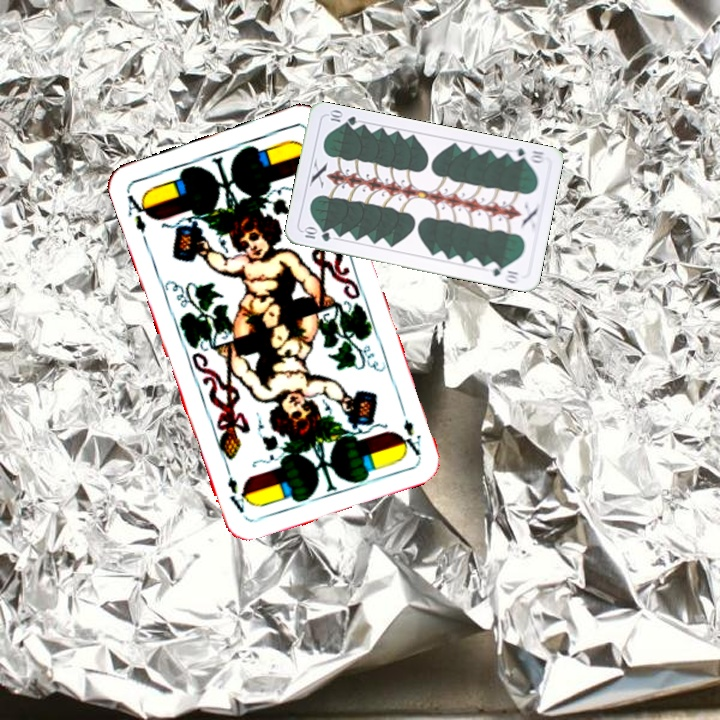EA: (123, 188, 154, 236), (396, 415, 424, 459)
G10: (506, 144, 548, 166), (300, 224, 333, 244)
